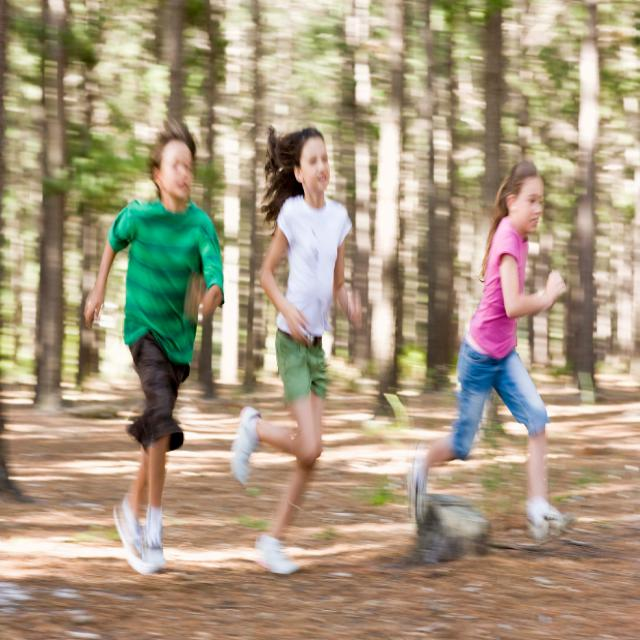Person: (84, 116, 225, 573), (415, 163, 576, 542), (232, 128, 362, 577)
